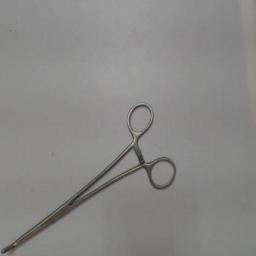Lahey Forceps: (0, 99, 180, 255)
